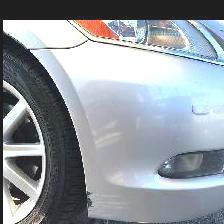bumper_scratch: (73, 184, 159, 223)
